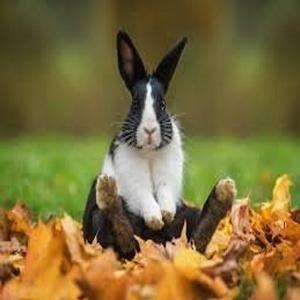rabbit: (83, 29, 188, 261)
